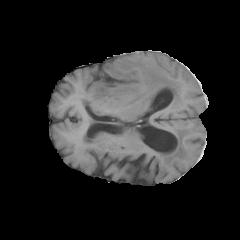glioma: (80, 58, 184, 117)
